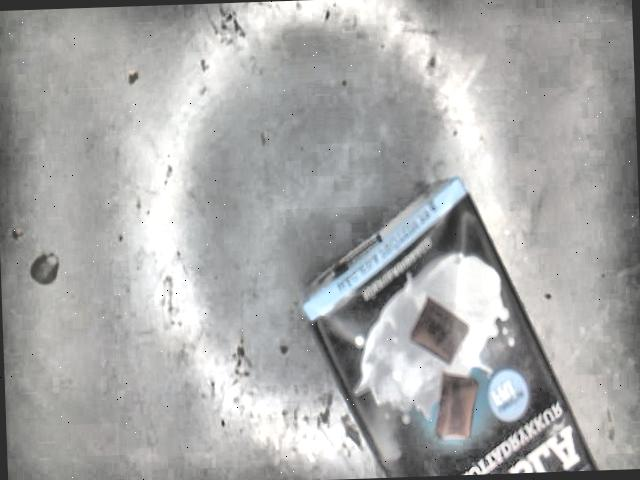Paper: (303, 178, 596, 478)
